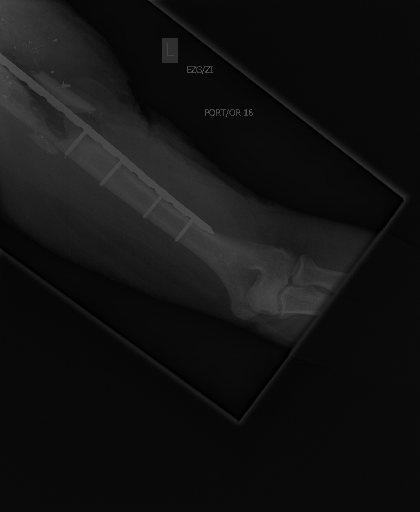implant: (63, 120, 215, 254)
